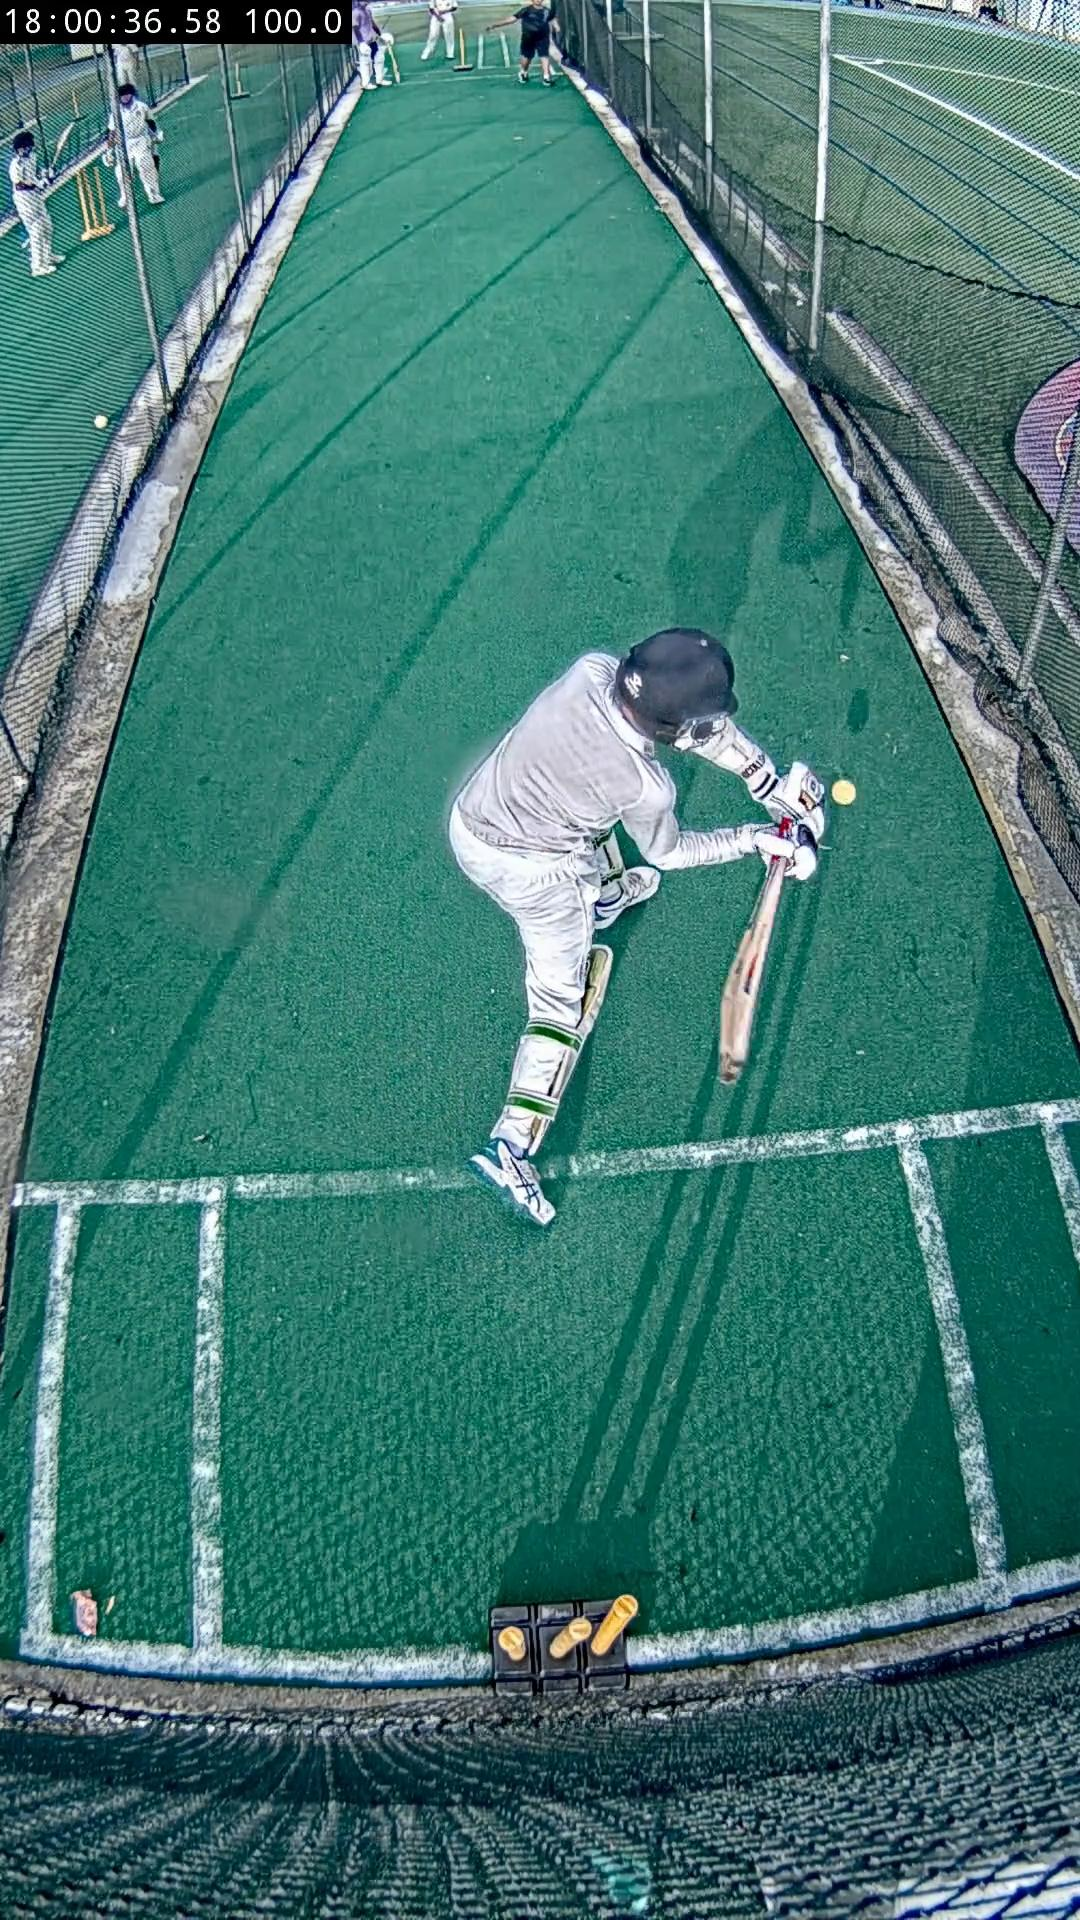ball: (832, 781, 855, 806)
bat: (720, 858, 787, 1081)
gloves: (754, 761, 825, 881)
helmet: (618, 626, 738, 742)
pads: (526, 947, 613, 1159)
stumps: (492, 1594, 637, 1695)
